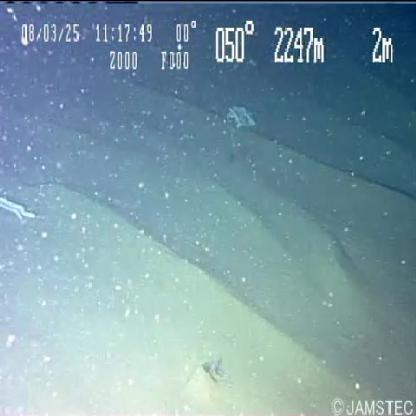Rác: (0, 197, 38, 226)
